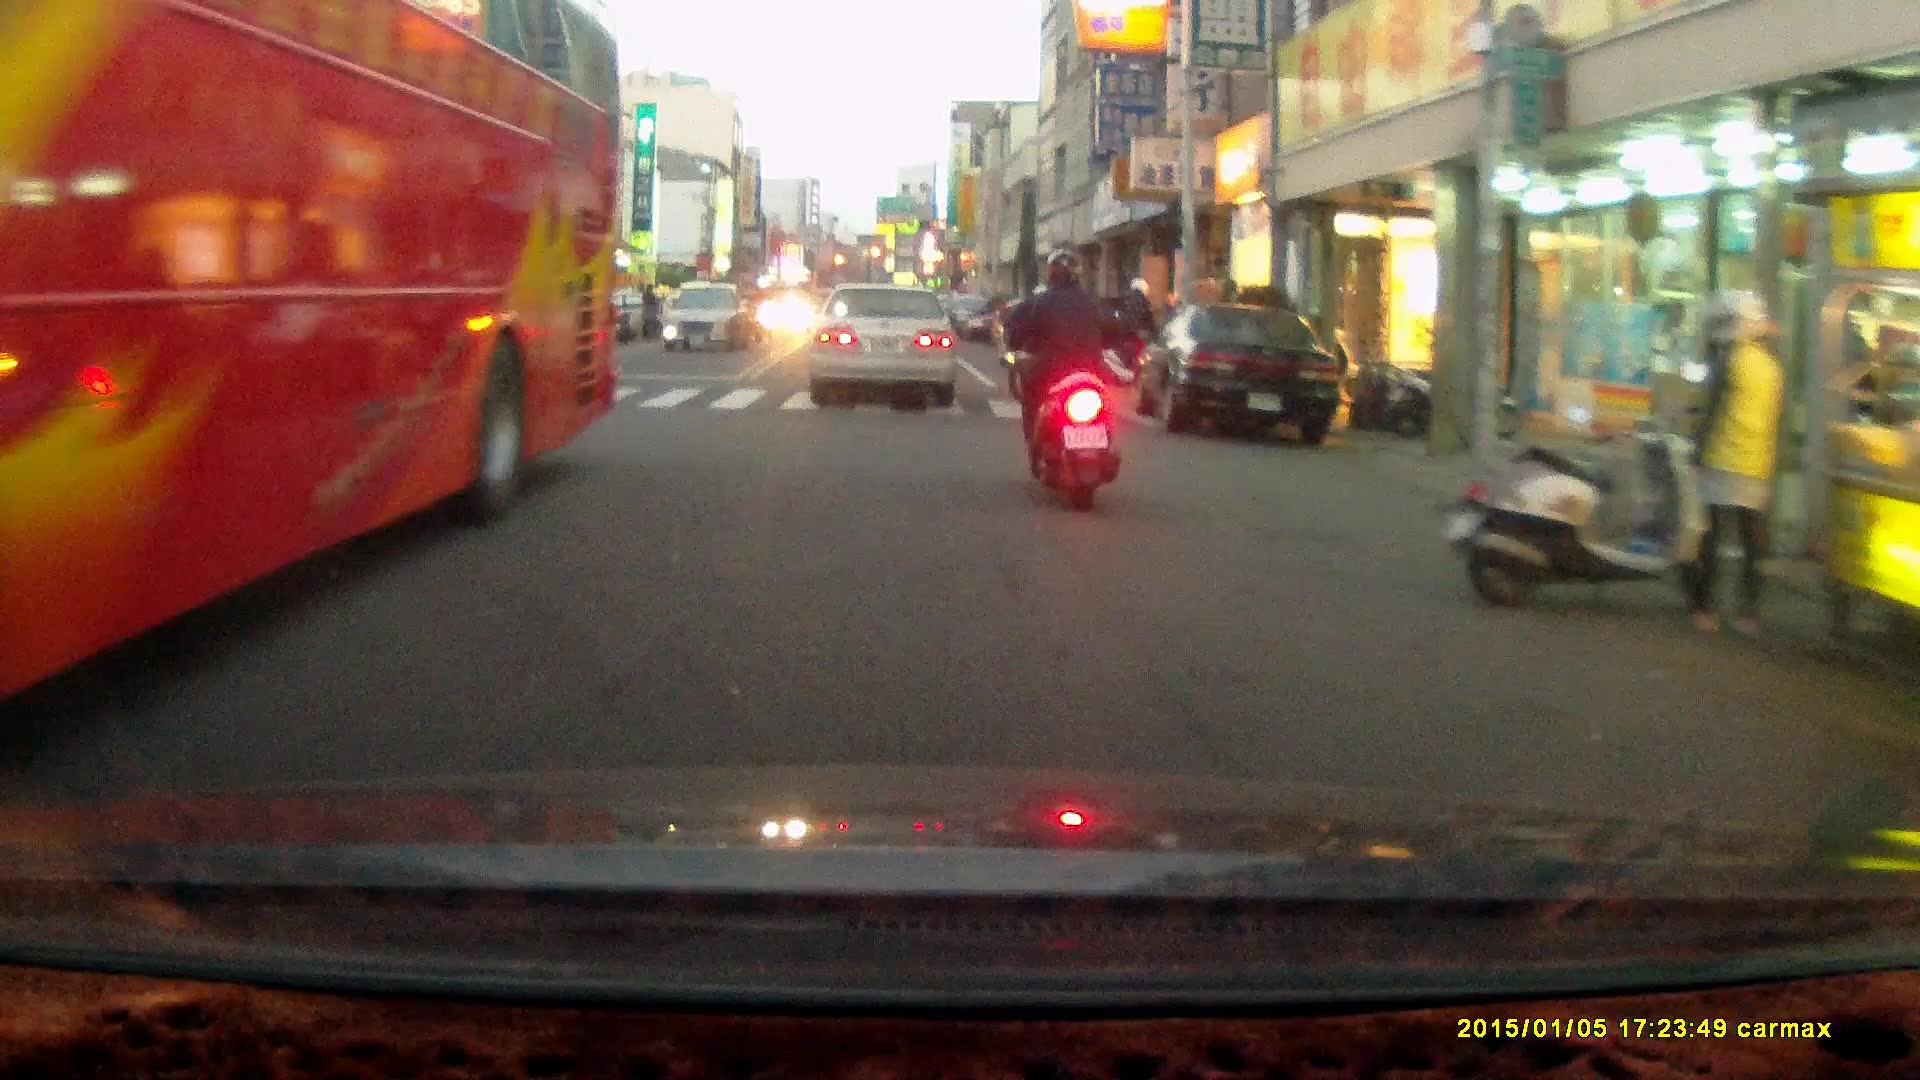pedestrian: (1677, 285, 1788, 639), (1122, 275, 1159, 394), (640, 279, 661, 343)
rider: (994, 244, 1119, 510)
vehicle: (1, 16, 626, 724), (1132, 302, 1353, 440), (810, 281, 960, 406), (658, 282, 754, 353)
